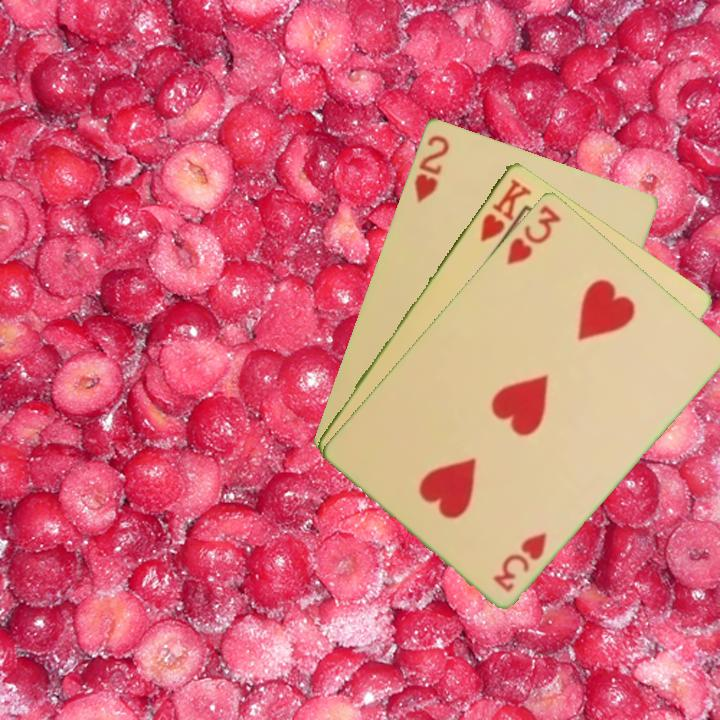2h: (410, 131, 452, 206)
3h: (502, 201, 564, 268), (489, 528, 550, 595)
Kh: (476, 174, 534, 244)
